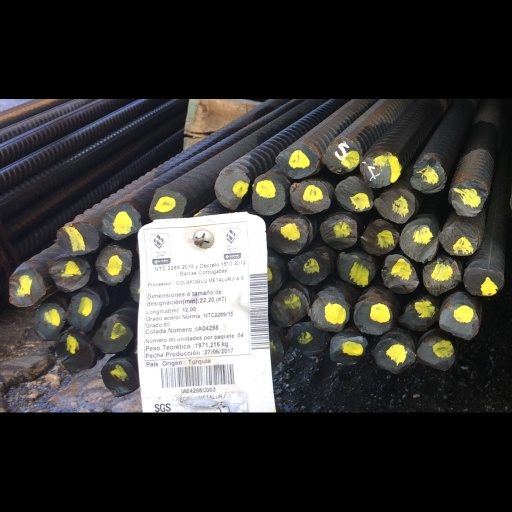dipstick: (439, 320, 483, 392), (372, 387, 417, 454), (2, 275, 48, 338), (53, 385, 97, 449), (370, 146, 418, 204), (406, 89, 448, 155), (450, 129, 493, 193), (417, 382, 461, 444), (65, 312, 102, 385), (94, 238, 134, 305), (326, 379, 369, 441), (380, 253, 420, 319), (53, 198, 100, 254), (251, 120, 287, 193), (308, 317, 351, 378), (287, 133, 333, 189), (268, 191, 309, 253), (352, 325, 394, 385), (271, 309, 313, 369), (318, 186, 359, 247), (400, 201, 439, 264), (215, 112, 251, 180), (289, 251, 336, 303), (438, 200, 480, 258), (422, 259, 462, 319), (465, 264, 504, 325), (47, 257, 91, 311), (97, 352, 134, 416), (278, 72, 317, 131), (361, 194, 398, 255), (335, 129, 375, 185), (402, 321, 438, 383), (99, 427, 138, 483), (363, 83, 401, 140), (105, 172, 142, 230), (324, 65, 360, 123), (34, 334, 65, 395), (150, 147, 187, 198)
